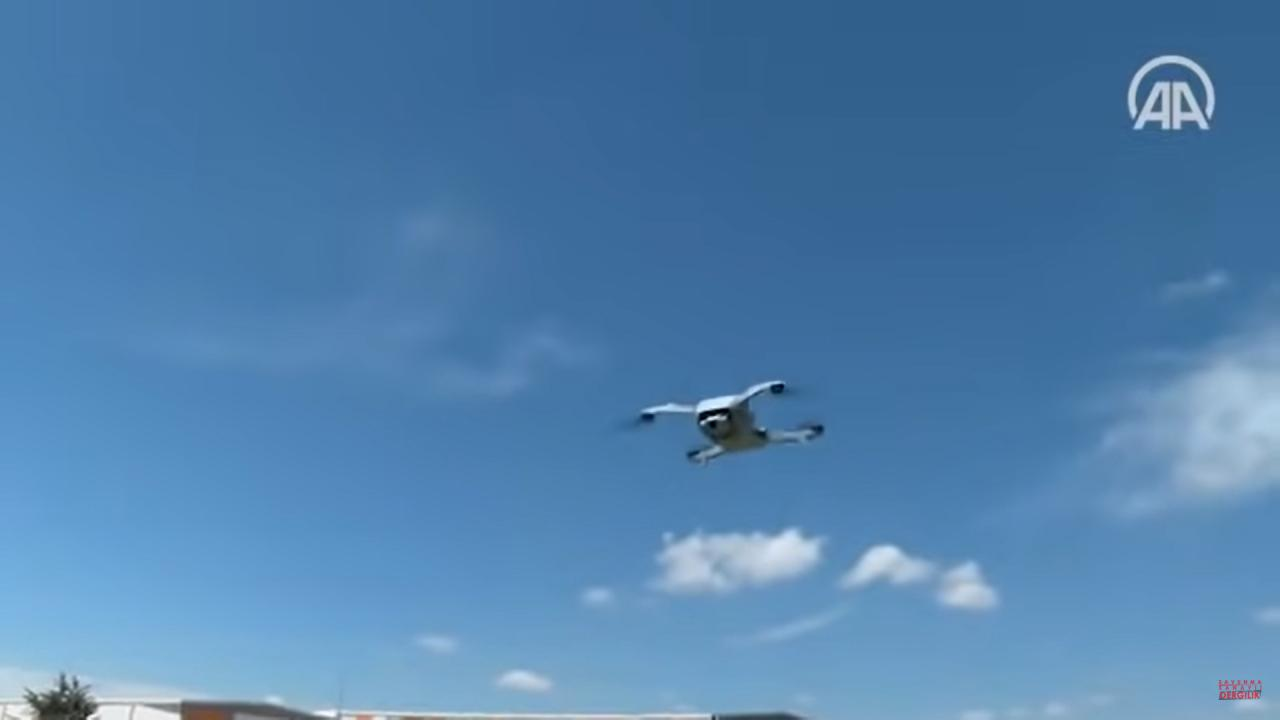Drone: (600, 366, 844, 478)
